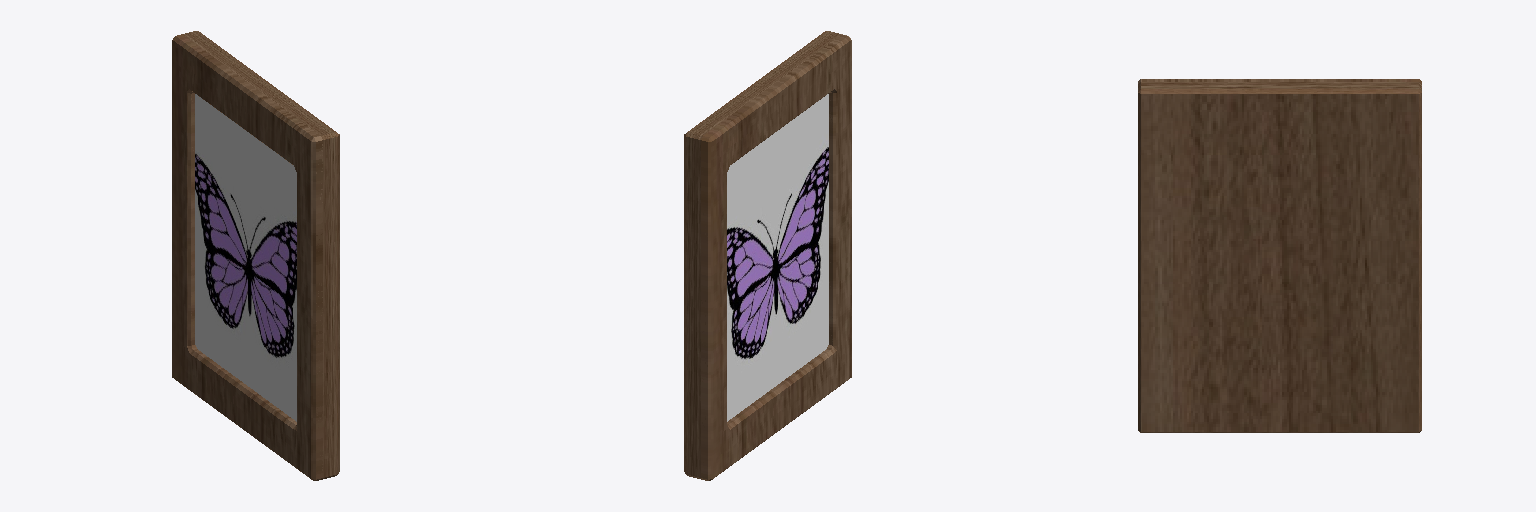
The picture shows the model from 3 angles: view 1: azimuth 30°, elevation 25°; view 2: azimuth 150°, elevation 25°; view 3: azimuth 270°, elevation 25°; orthographic projection.
Visible parts, largest first — view 1: pCube1, pasted__pPlane1 group6; view 2: pCube1, pasted__pPlane1 group6; view 3: pCube1.
Boxes of the visible parts, <box> form: pCube1: <box>172,31,339,480</box>; pasted__pPlane1 group6: <box>195,94,296,421</box>; pCube1: <box>684,31,851,480</box>; pasted__pPlane1 group6: <box>727,94,828,421</box>; pCube1: <box>1138,79,1421,432</box>.
Bounding box in the file's own units: 0.3463 × 4 × 3.
Materials: 2 (2 with a texture image).